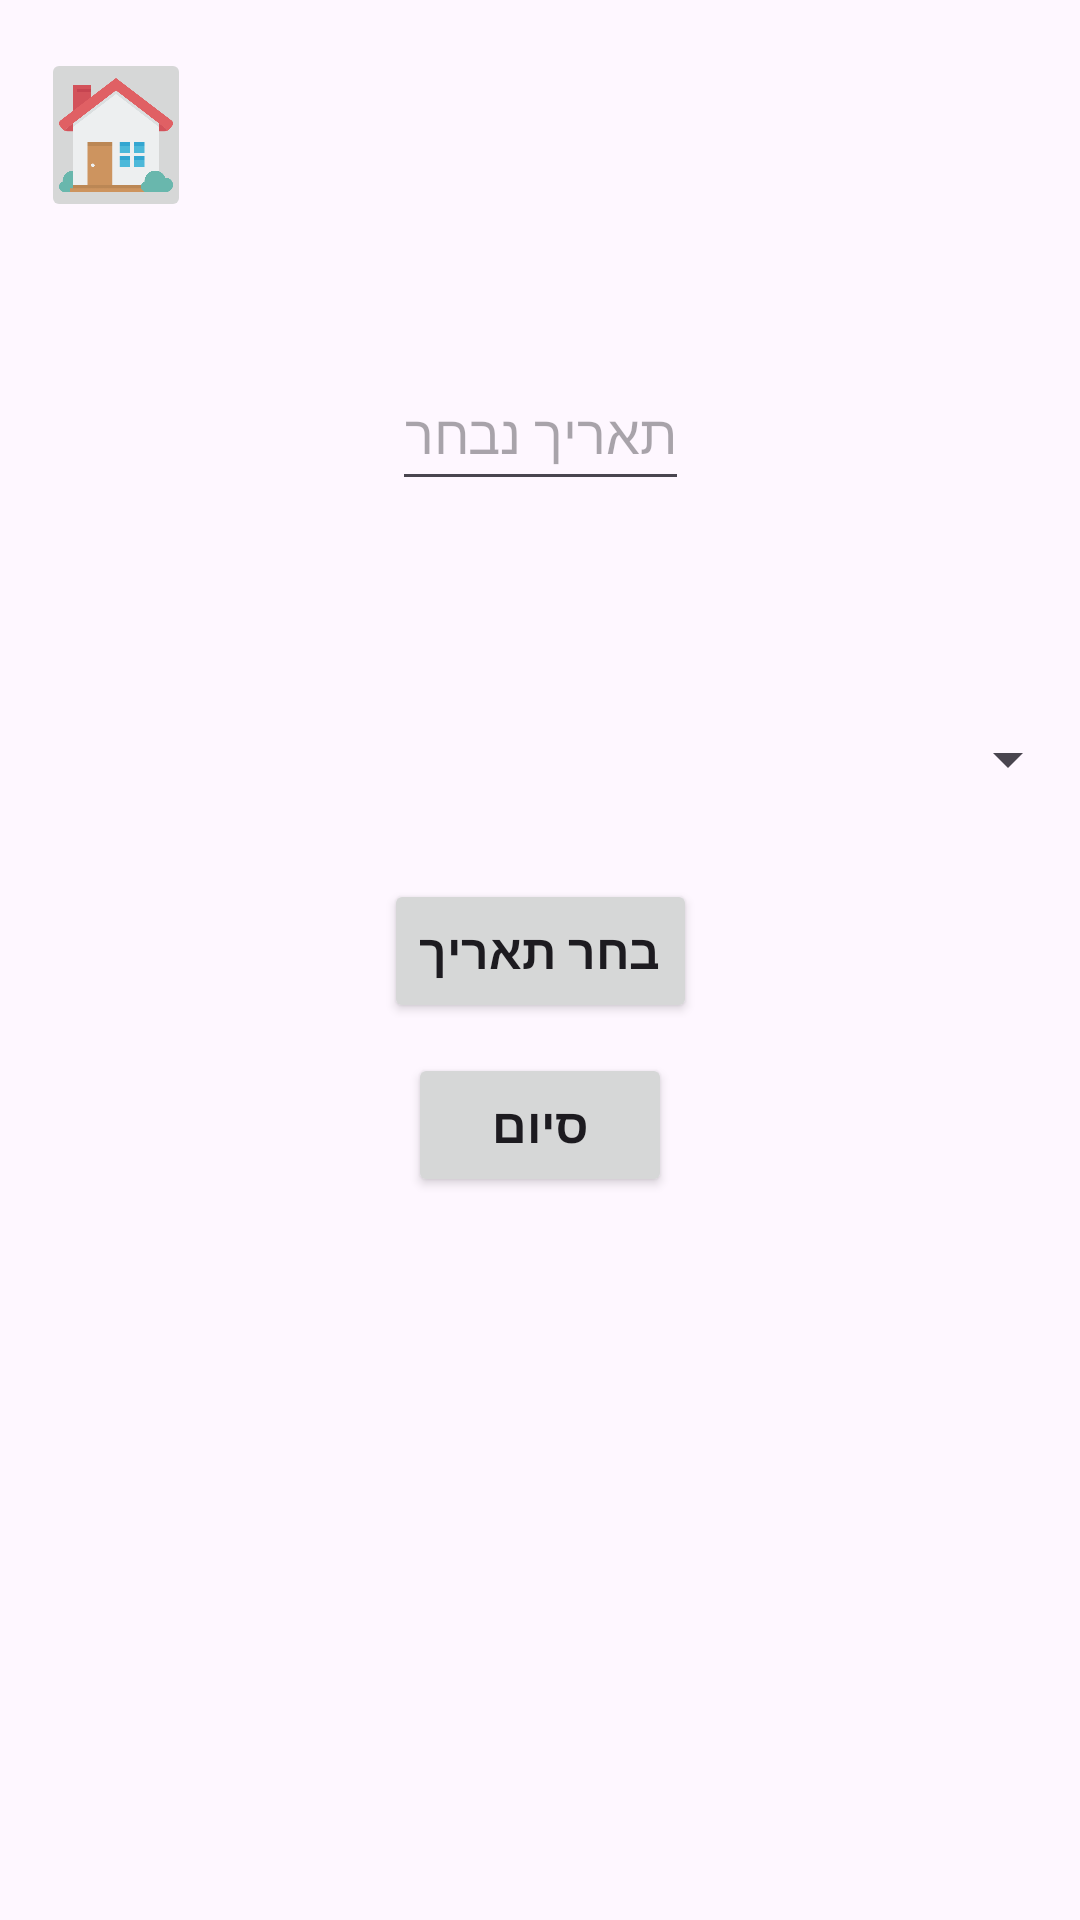

Icon click points for this 1080x1920 phone screenshot, format (x,y):
Home button for renter homepage: (116,135)
